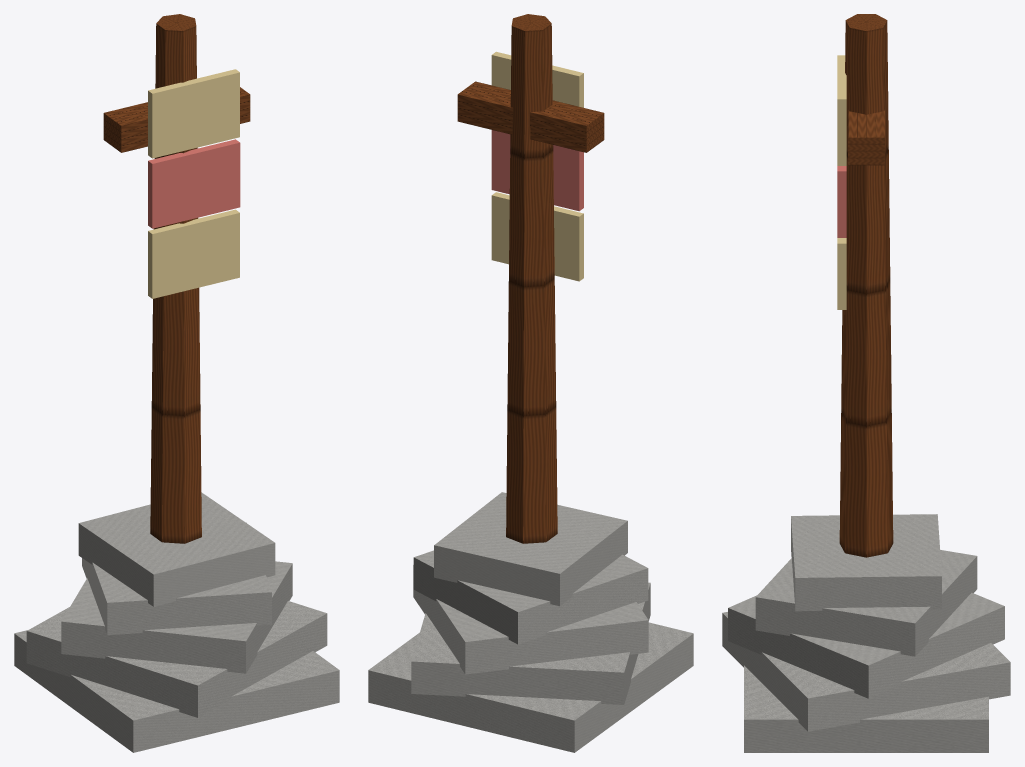
Rendered from andean-terraces-and-stone-village-pack-marker-post-37ce035c__38247.glb.
The picture shows the model from 3 angles, left to right: view 1: azimuth 30°, elevation 25°; view 2: azimuth 150°, elevation 25°; view 3: azimuth 270°, elevation 25°; orthographic projection. The views are drawn at different scales.
Parts seen in each view (by area): view 1: pack-marker-post-stone, pack-marker-post-timber, pack-marker-post-thatch, pack-marker-post-cloth; view 2: pack-marker-post-stone, pack-marker-post-timber, pack-marker-post-thatch, pack-marker-post-cloth; view 3: pack-marker-post-stone, pack-marker-post-timber, pack-marker-post-thatch, pack-marker-post-cloth.
Part boxes in pixels (bbox=[...]): pack-marker-post-stone: bbox=[14, 492, 339, 752]; pack-marker-post-timber: bbox=[103, 14, 250, 543]; pack-marker-post-thatch: bbox=[148, 69, 239, 298]; pack-marker-post-cloth: bbox=[148, 139, 240, 228]; pack-marker-post-stone: bbox=[368, 492, 693, 752]; pack-marker-post-timber: bbox=[457, 14, 604, 543]; pack-marker-post-thatch: bbox=[491, 51, 583, 281]; pack-marker-post-cloth: bbox=[491, 130, 583, 211]; pack-marker-post-stone: bbox=[722, 514, 1010, 752]; pack-marker-post-timber: bbox=[839, 14, 893, 557]; pack-marker-post-thatch: bbox=[837, 55, 846, 309]; pack-marker-post-cloth: bbox=[837, 166, 846, 237].
Size of the model in its own units: 0.9435 by 2.45 by 0.9435.
Materials: 4 (2 with a texture image).
